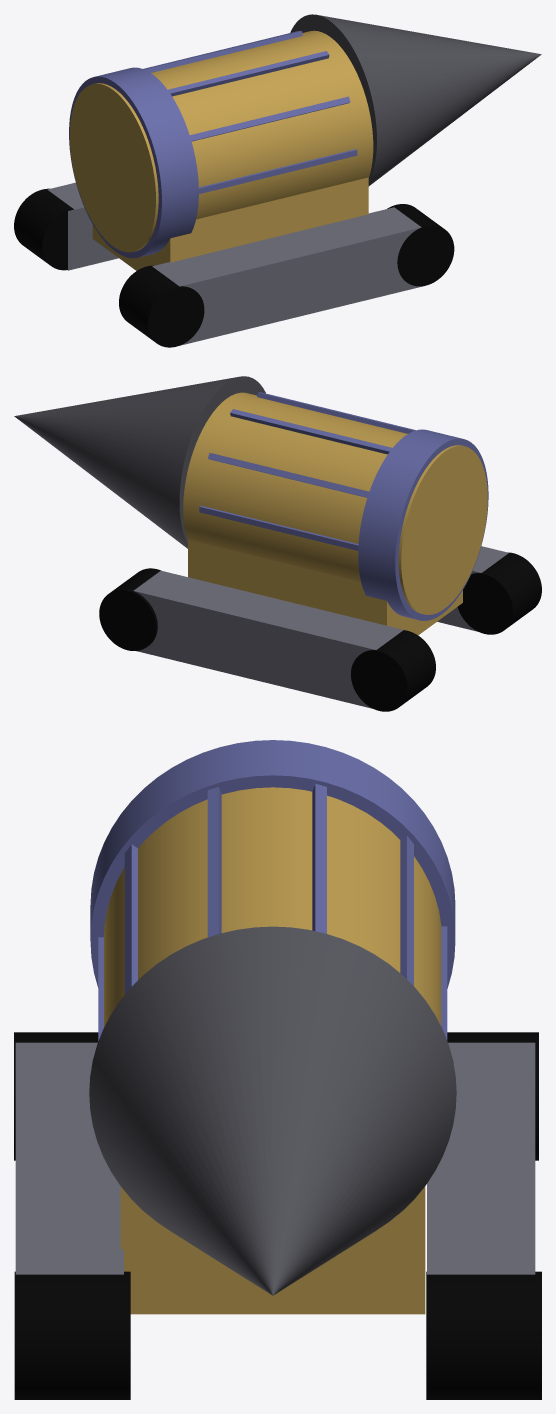
The model's file is Drill.fbx.
The picture shows the model from 3 angles, top to bottom: view 1: azimuth 30°, elevation 25°; view 2: azimuth 150°, elevation 25°; view 3: azimuth 270°, elevation 25°; orthographic projection. The views are drawn at different scales.
Visible parts, largest first — view 1: Cylinder, Box 2, Cone, Cylinder 5, Box 1, Cylinder 4, Box 3 (×4), Cylinder 2, Cylinder 3, Box; view 2: Cylinder, Box, Cone, Cylinder 5, Box 1, Cylinder 2, Box 3 (×4), Cylinder 4, Cylinder 1, Box 2; view 3: Cone, Cylinder, Box, Box 2, Box 1, Cylinder 5, Cylinder 3, Cylinder 1, Box 3 (×4), Cylinder 2, Cylinder 4.
Boxes of the visible parts, x1,y1,x2,y2 form: Cylinder: [69, 30, 373, 252]; Box 2: [152, 207, 425, 345]; Cone: [290, 14, 541, 186]; Cylinder 5: [69, 67, 198, 258]; Box 1: [92, 177, 368, 270]; Cylinder 4: [119, 265, 204, 347]; Box 3 (×4): [143, 31, 357, 193]; Cylinder 2: [14, 188, 73, 270]; Cylinder 3: [387, 204, 454, 286]; Box: [47, 182, 118, 270]; Cylinder: [183, 392, 487, 614]; Box: [133, 570, 404, 708]; Cone: [14, 376, 265, 548]; Cylinder 5: [358, 429, 488, 620]; Box 1: [188, 540, 462, 635]; Cylinder 2: [351, 630, 435, 711]; Box 3 (×4): [199, 392, 415, 550]; Cylinder 4: [457, 552, 541, 634]; Cylinder 1: [99, 568, 160, 650]; Box 2: [437, 546, 508, 631]; Cone: [89, 926, 456, 1295]; Cylinder: [104, 787, 441, 1249]; Box: [427, 1042, 535, 1274]; Box 2: [15, 1042, 123, 1274]; Box 1: [120, 1186, 425, 1314]; Cylinder 5: [90, 740, 455, 988]; Cylinder 3: [14, 1271, 130, 1399]; Cylinder 1: [426, 1271, 541, 1399]; Box 3 (×4): [124, 783, 413, 994]; Cylinder 2: [447, 1032, 538, 1160]; Cylinder 4: [14, 1032, 98, 1160].
Bounding box in the file's own units: 260 × 132 × 121.
